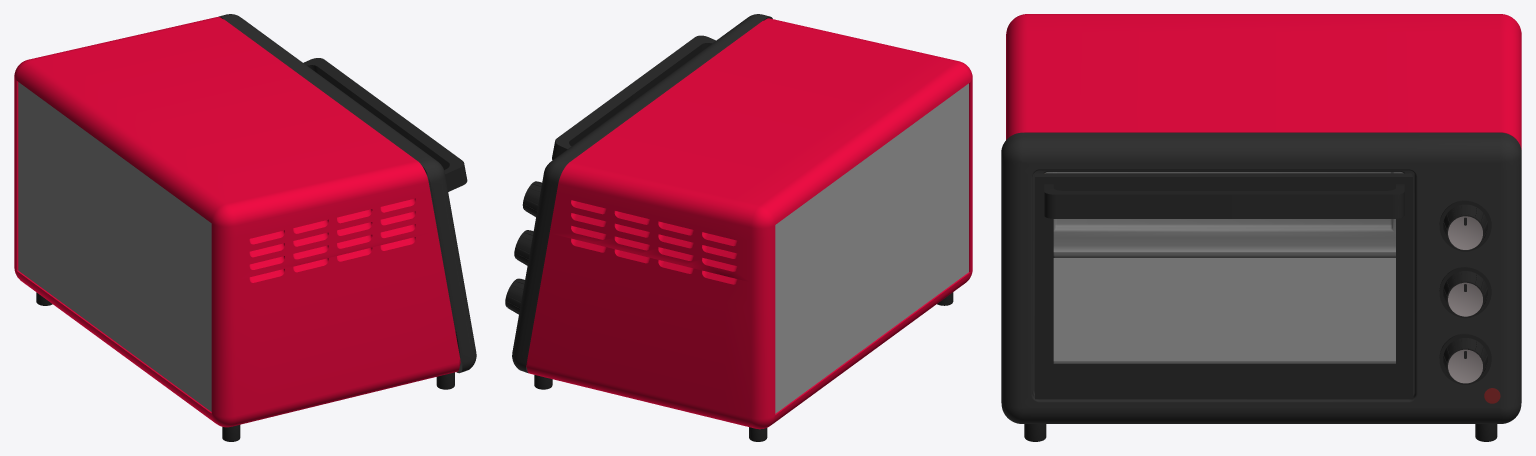
Rendered from oven.gltf.
3 views of the same model, side by side, from view 1: azimuth 30°, elevation 25°; view 2: azimuth 150°, elevation 25°; view 3: azimuth 270°, elevation 25° (orthographic). The views are drawn at different scales.
Parts seen in each view (by area): view 1: body_2, backplate_1, bumper_3, Mesh_0, kaki_9; view 2: body_2, backplate_1, bumper_3, Mesh_0, kaki_9, slider 1_11, slider 1.001_12, slider 1.002_13; view 3: body_2, bumper_3, Mesh_1, inner oven_6, Mesh_0, slider 1_11, slider 1.002_13, slider 1.001_12, Cylinder.001_5, Cylinder_4, kaki_9.
Part boxes in pixels (bbox=[...]): body_2: bbox=[14, 17, 460, 427]; backplate_1: bbox=[18, 82, 211, 411]; bumper_3: bbox=[218, 14, 476, 373]; Mesh_0: bbox=[303, 58, 467, 191]; kaki_9: bbox=[36, 292, 454, 441]; body_2: bbox=[526, 18, 972, 429]; backplate_1: bbox=[775, 83, 968, 413]; bumper_3: bbox=[512, 14, 772, 373]; Mesh_0: bbox=[552, 35, 715, 160]; kaki_9: bbox=[534, 292, 953, 441]; slider 1_11: bbox=[505, 278, 524, 314]; slider 1.001_12: bbox=[514, 230, 533, 265]; slider 1.002_13: bbox=[522, 181, 541, 216]; body_2: bbox=[1006, 14, 1521, 149]; bumper_3: bbox=[1001, 132, 1521, 423]; Mesh_1: bbox=[1055, 219, 1395, 362]; inner oven_6: bbox=[1045, 172, 1403, 361]; Mesh_0: bbox=[1035, 173, 1412, 399]; slider 1_11: bbox=[1439, 333, 1491, 384]; slider 1.002_13: bbox=[1439, 200, 1491, 251]; slider 1.001_12: bbox=[1439, 266, 1491, 318]; Cylinder.001_5: bbox=[1053, 252, 1395, 257]; Cylinder_4: bbox=[1053, 361, 1395, 363]; kaki_9: bbox=[1024, 424, 1497, 441].
Size of the model in its own units: 2.23 by 1.83 by 2.98.
